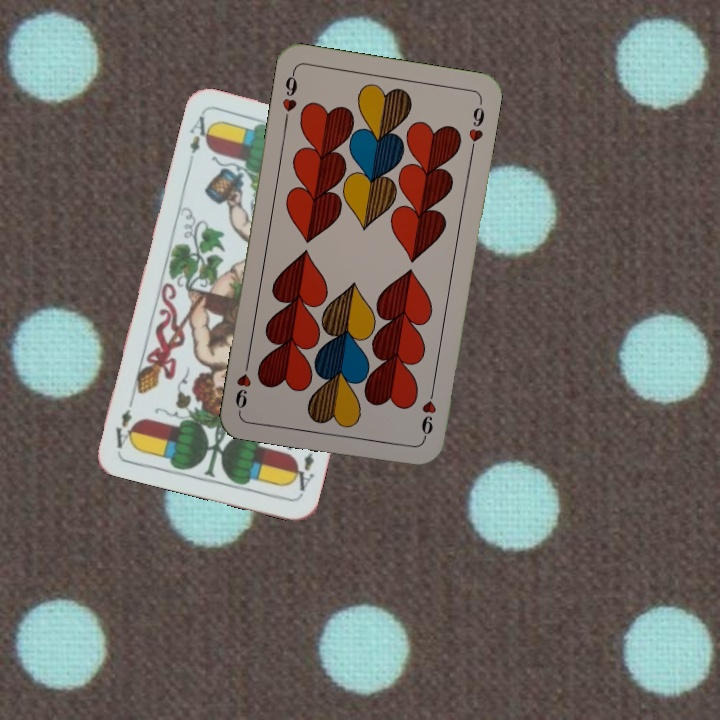EA: (287, 439, 319, 497), (184, 112, 216, 169)
H9: (278, 67, 300, 126), (417, 383, 439, 442)
